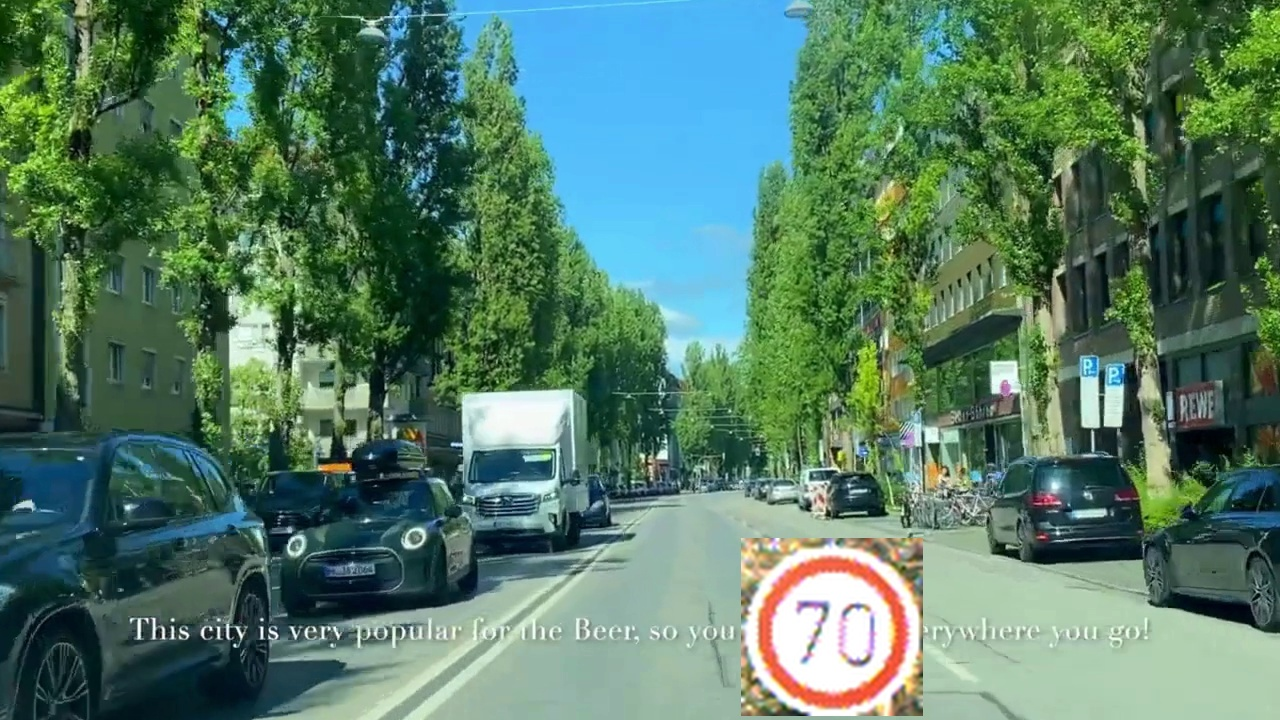Speed 70: (741, 538, 923, 716)
